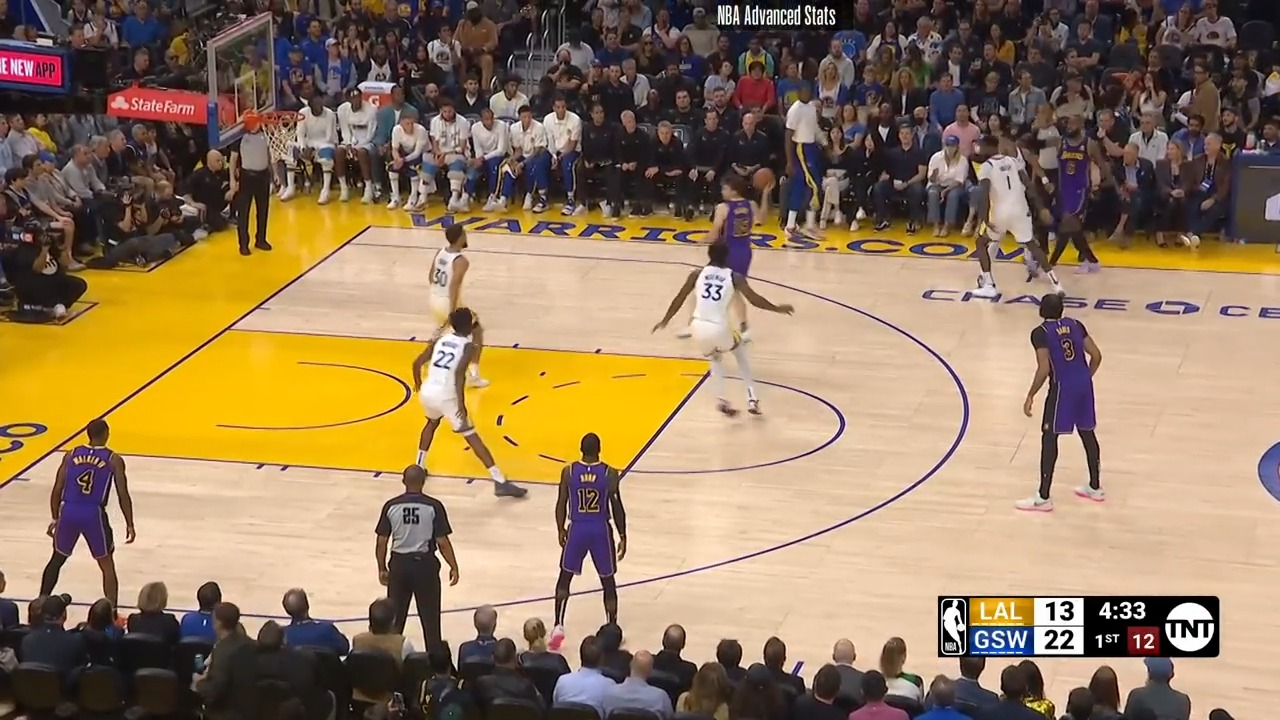net: (244, 105, 311, 151)
player: (654, 242, 800, 434), (404, 305, 530, 506), (1014, 291, 1110, 515), (35, 413, 144, 602), (543, 431, 629, 640), (968, 125, 1065, 299), (1037, 116, 1112, 284), (700, 169, 775, 288), (420, 219, 480, 352)
referee: (374, 458, 466, 649), (226, 116, 283, 266)
